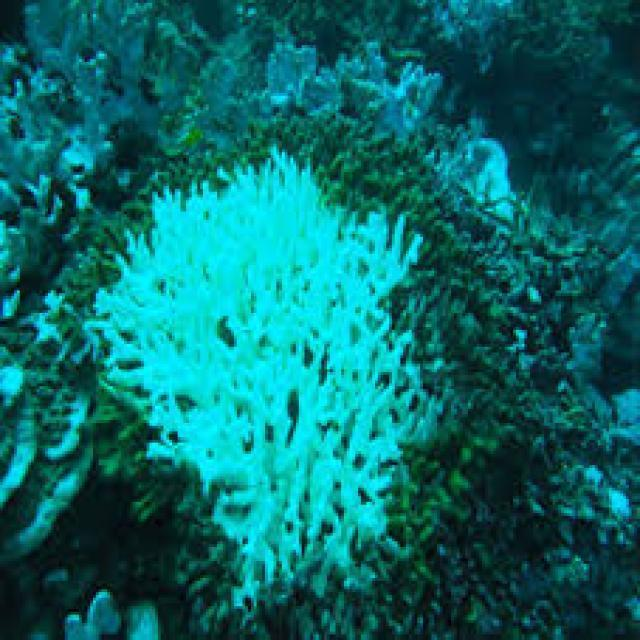Bleached: (180, 158, 401, 579), (90, 201, 186, 406), (1, 52, 117, 201), (387, 331, 452, 464), (135, 393, 191, 461)
Healthy: (397, 191, 495, 417), (379, 416, 507, 558), (303, 117, 443, 219), (85, 381, 165, 523), (62, 234, 115, 316), (228, 115, 303, 171), (157, 153, 227, 194), (114, 185, 148, 249)
